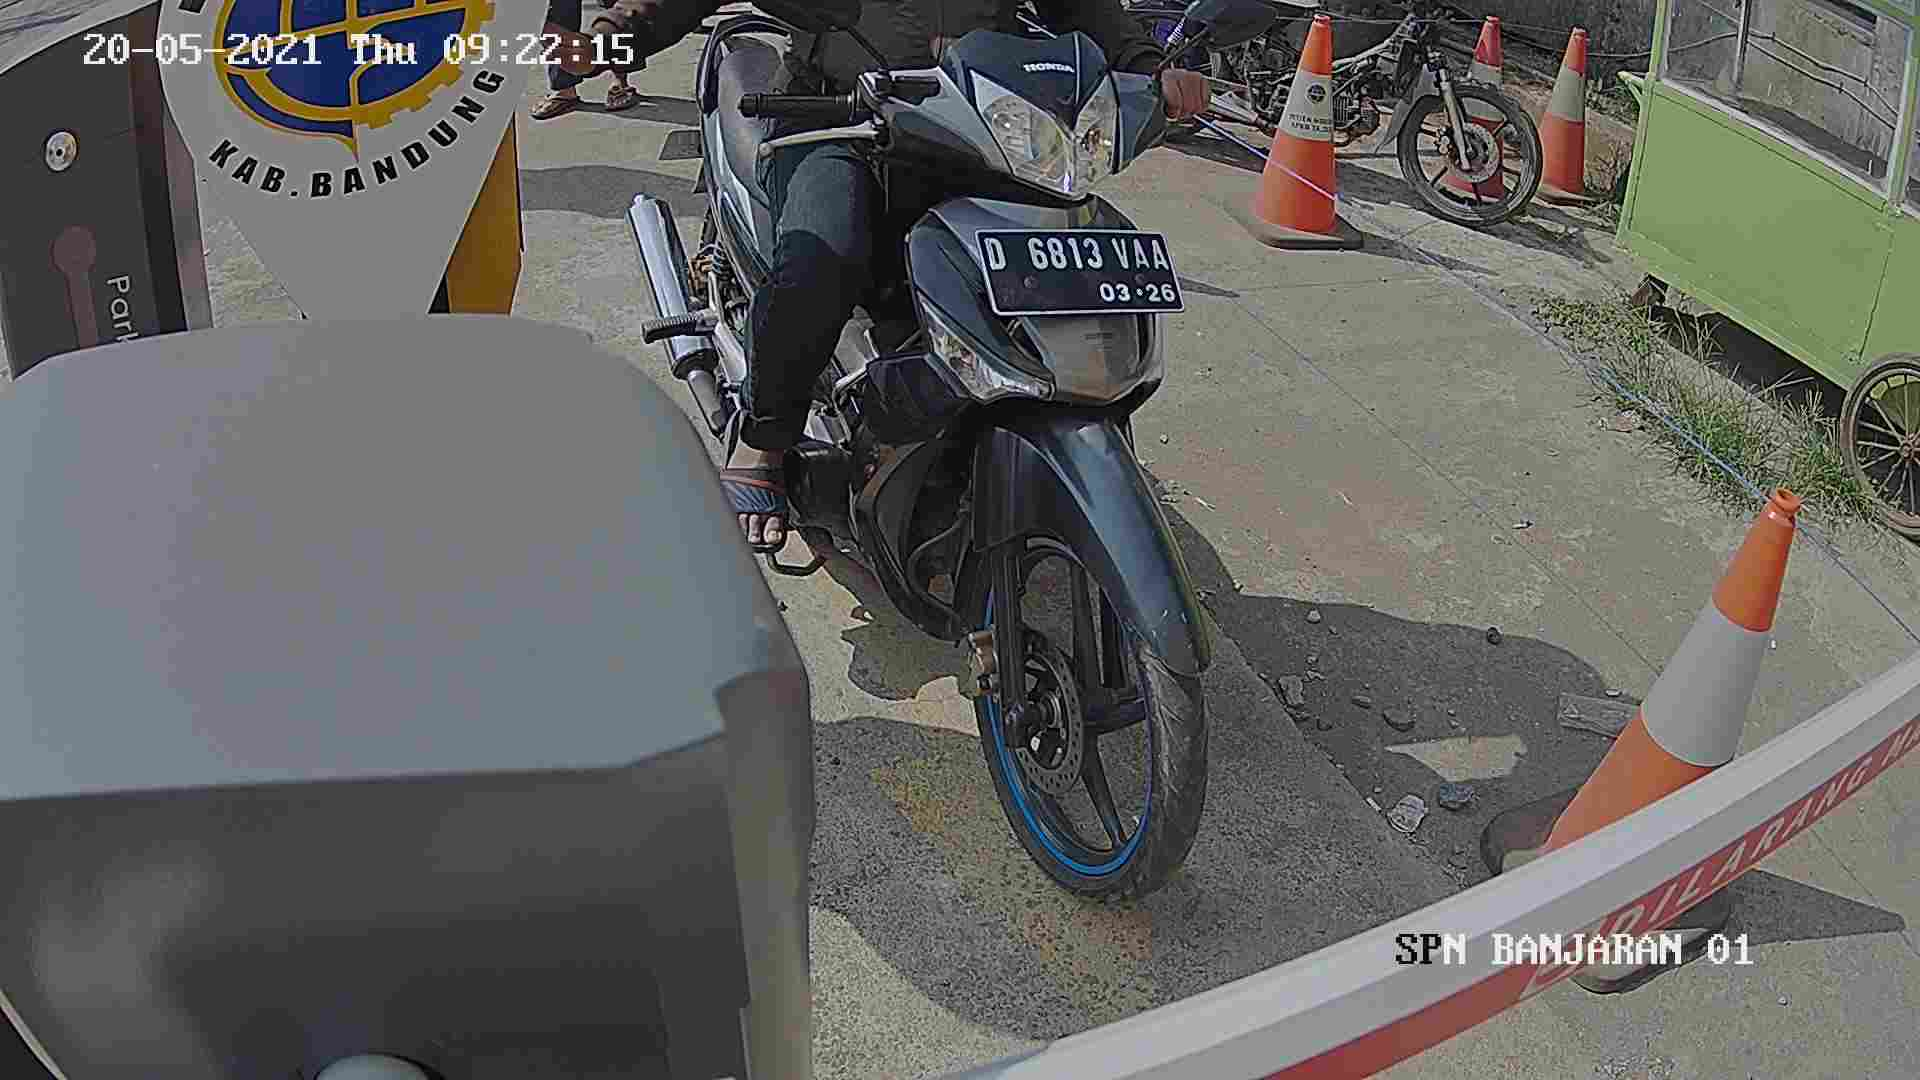motor: (658, 24, 1215, 903)
